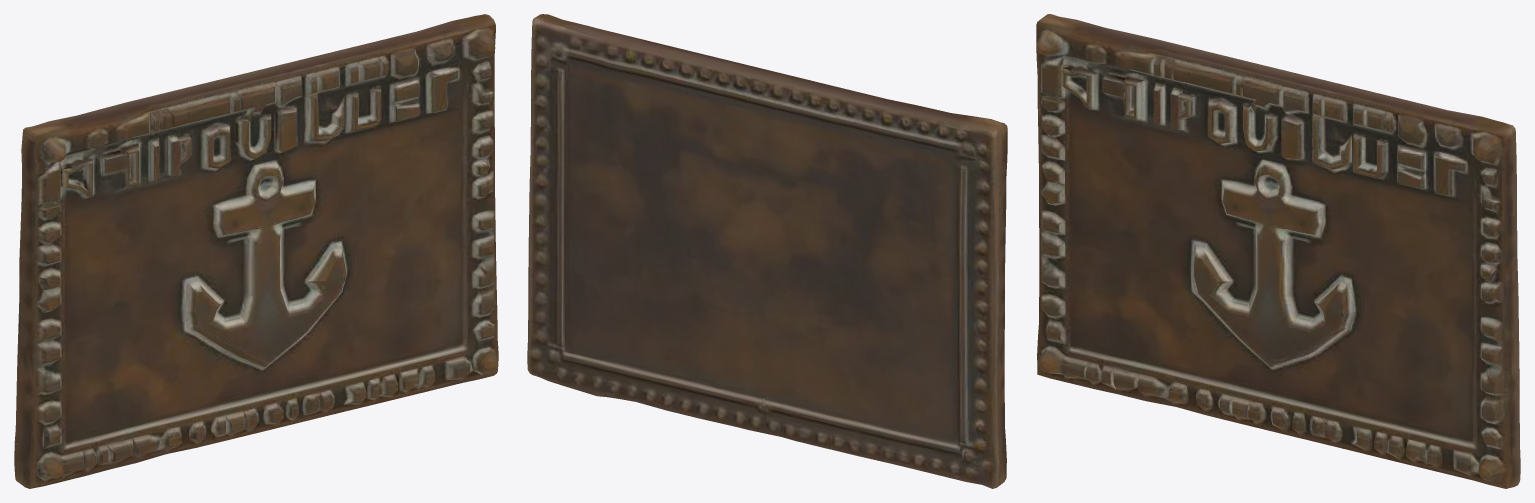
The model's file is wreck_plaque.glb.
The picture shows the model from 3 angles, left to right: view 1: azimuth 30°, elevation 25°; view 2: azimuth 150°, elevation 25°; view 3: azimuth 330°, elevation 25°; orthographic projection.
Visible parts, largest first — view 1: mesh_node; view 2: mesh_node; view 3: mesh_node.
Boxes of the visible parts, x1=… form: mesh_node: x1=14, y1=14, x2=498, y2=488; mesh_node: x1=527, y1=14, x2=1007, y2=488; mesh_node: x1=1036, y1=14, x2=1520, y2=488.
Size of the model in its own units: 1.9 by 1.38 by 0.1995.
Materials: 1 (1 with a texture image).
